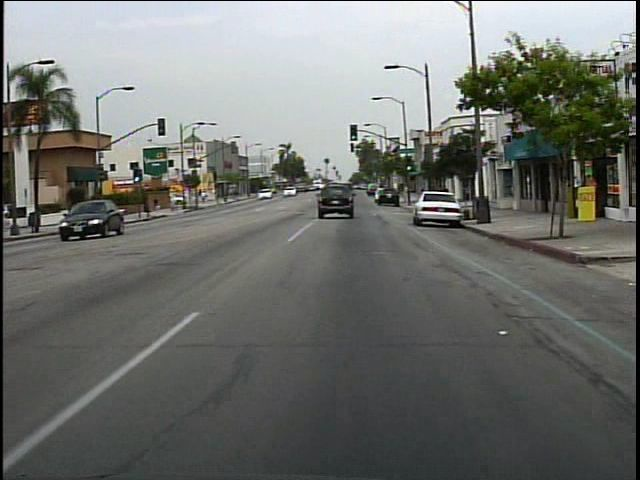person: (147, 190, 167, 219), (200, 188, 209, 207)
